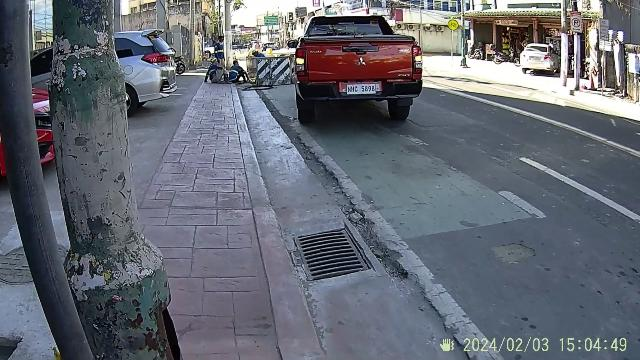car: (290, 6, 426, 132)
street_sign: (569, 9, 585, 87), (445, 18, 459, 58)
utility_post: (0, 0, 172, 356)
